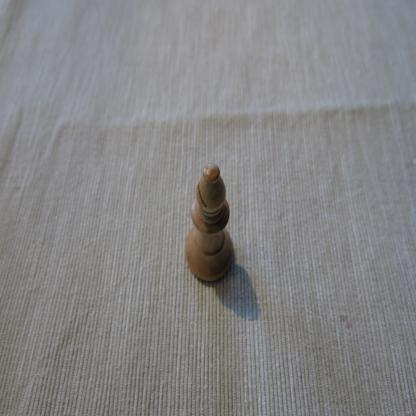white-bishop: (184, 161, 235, 284)
